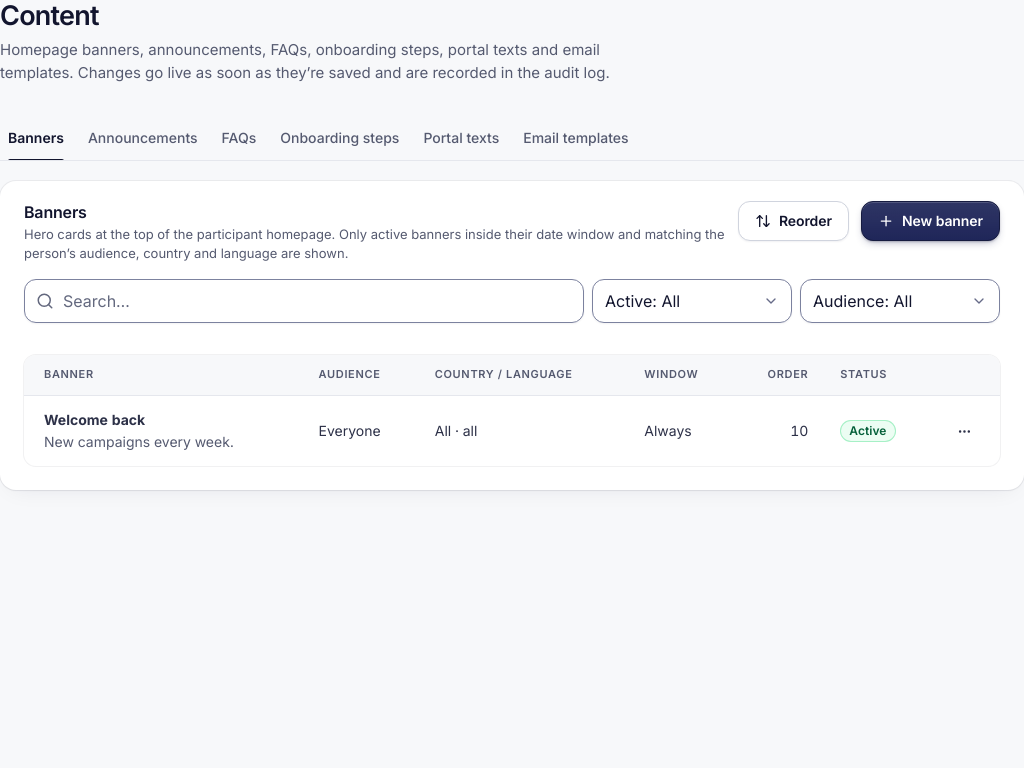
Test: Content — banners › sends the concurrency stamp and, on 409, keeps the draft and offers to load the latest version
Step 1. Click the button named "Actions for Welcome back" → (964, 431), box [948,415,980,447]
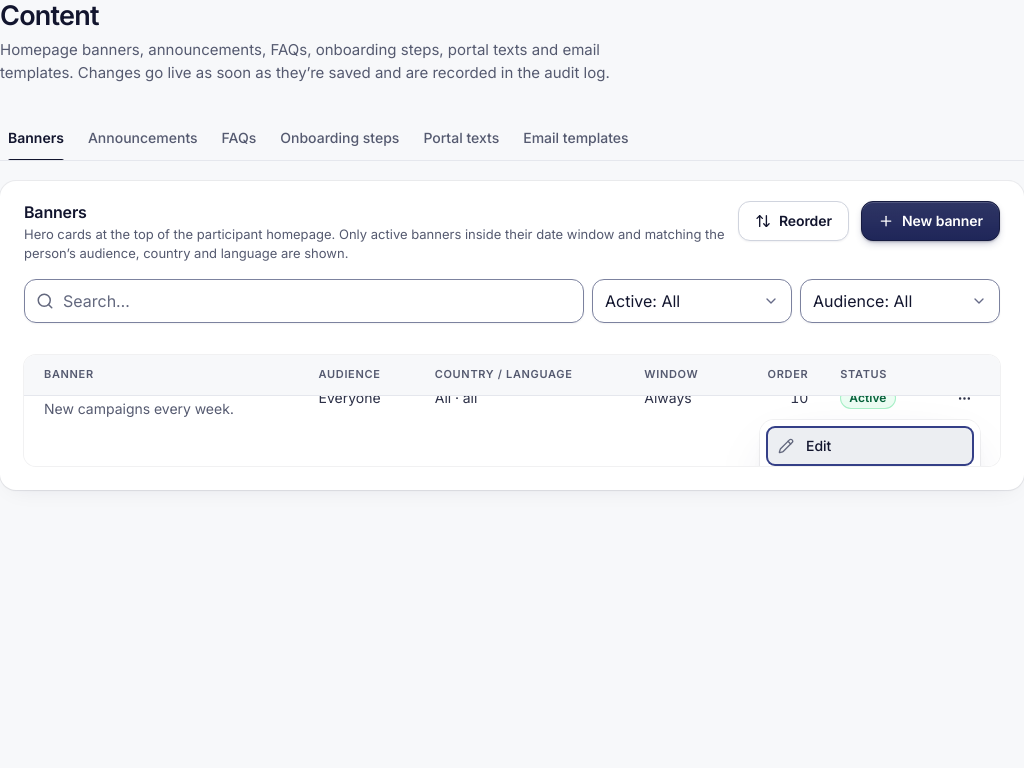
Step 2. Click the menu item "Edit" → (870, 446), box [766,426,974,466]
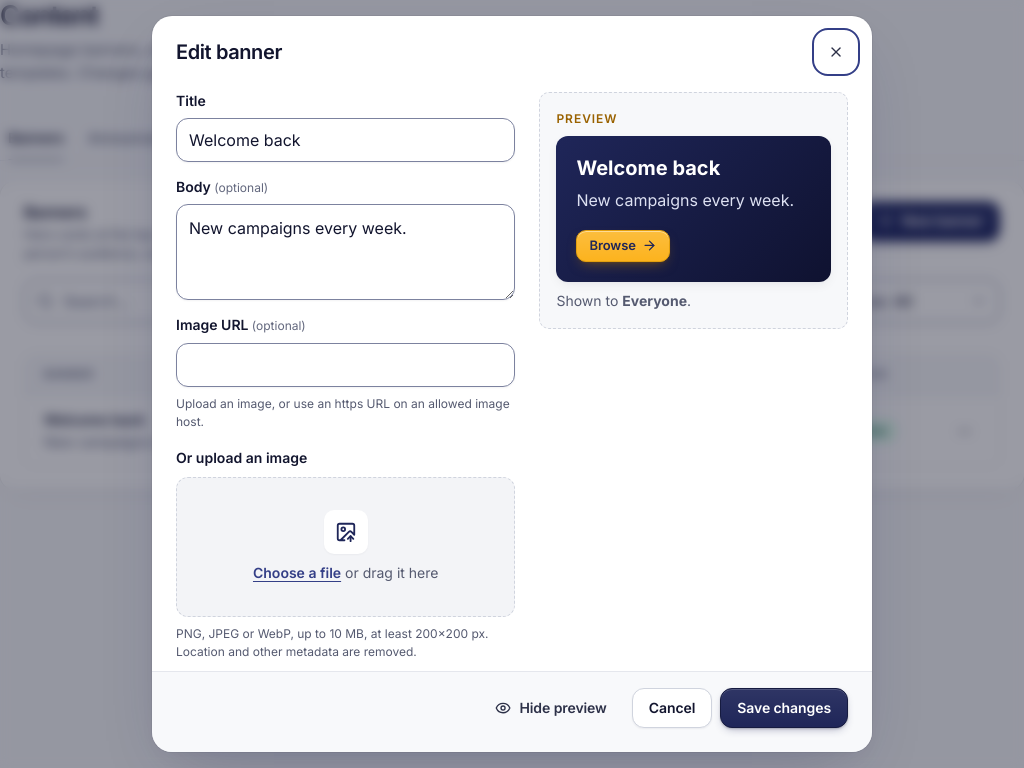
Step 3. Replace the text in the field labelled "Title" with "My edit" → (346, 140), box [176,118,515,162]
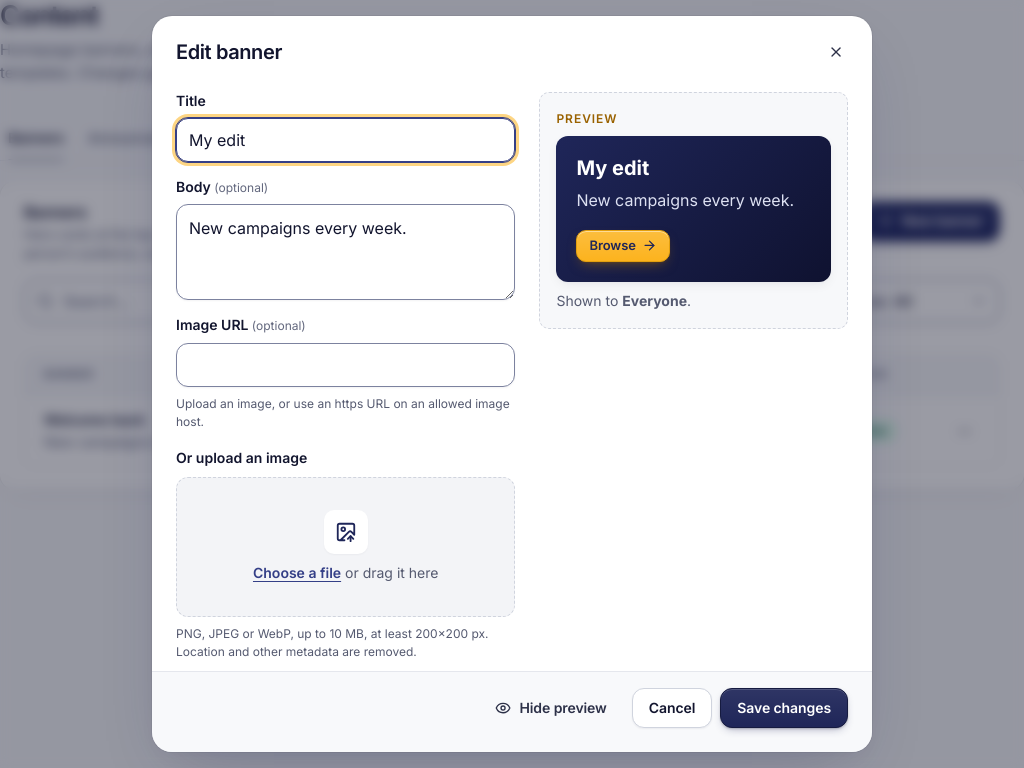
Check: the element with test id "banner-preview" shows "My edit", box [576,156,649,180]
Step 4. Click the button "Save changes" → (784, 708), box [720,688,848,728]
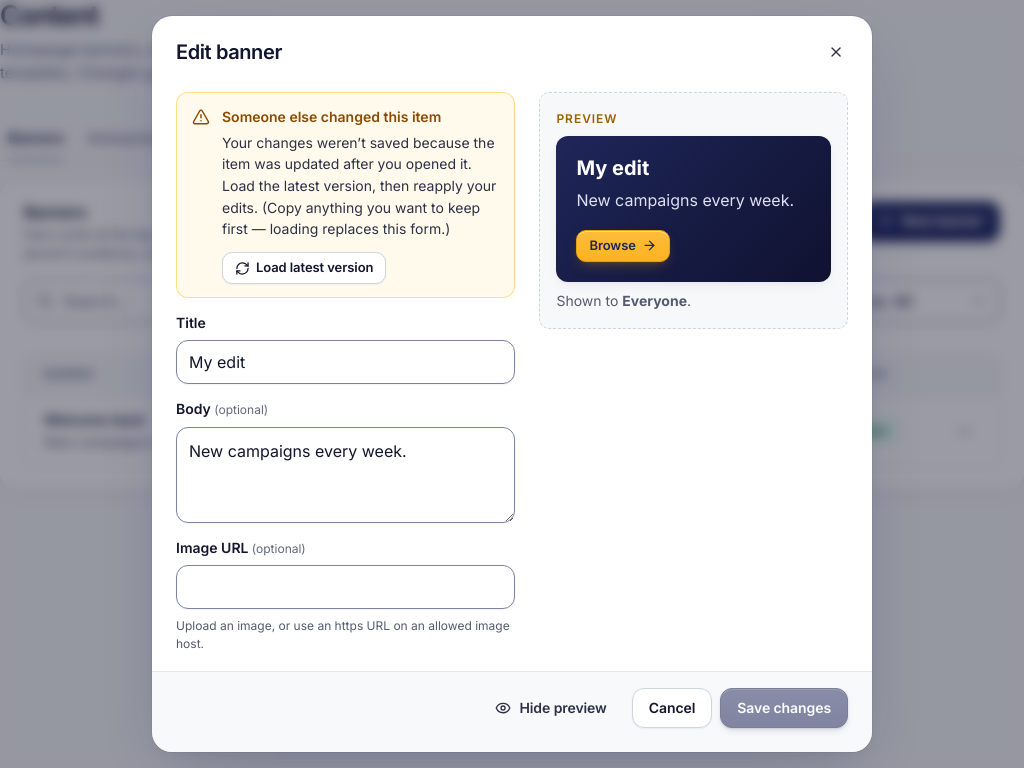
Check: the text "Someone else changed this item" is shown, box [222,108,441,125]
Check: the button "Save changes" is disabled, box [720,688,848,728]
Step 5. Click the button "Load latest version" → (304, 268), box [222,252,386,284]
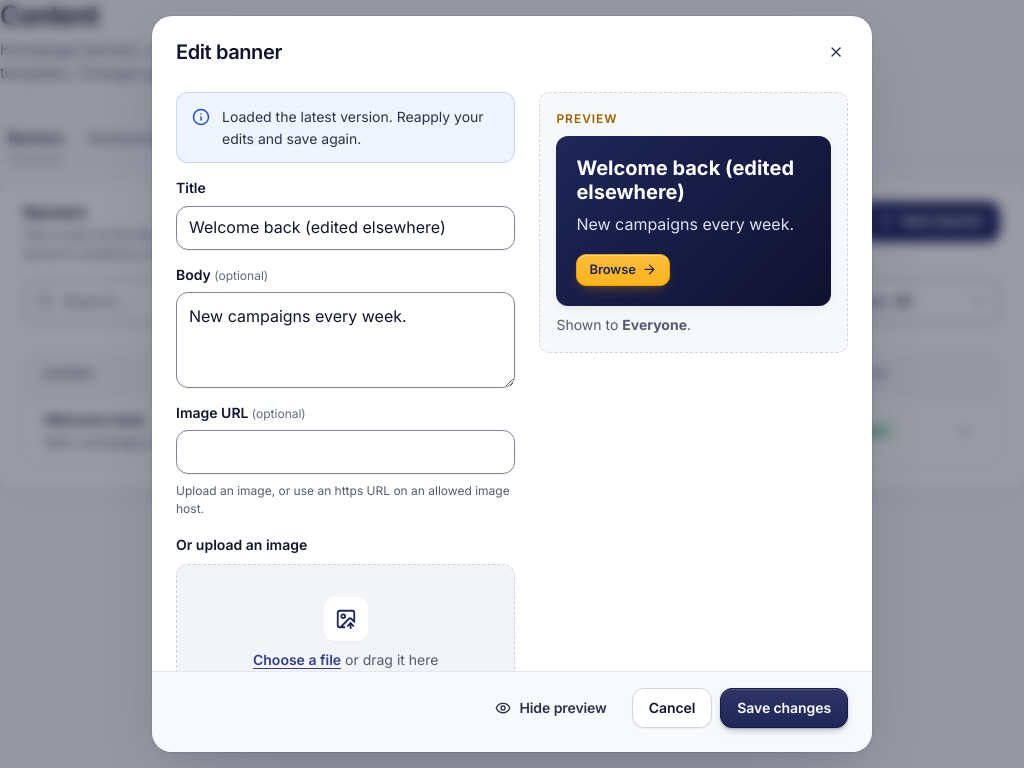
Check: the button "Save changes" is enabled, box [720,688,848,728]
